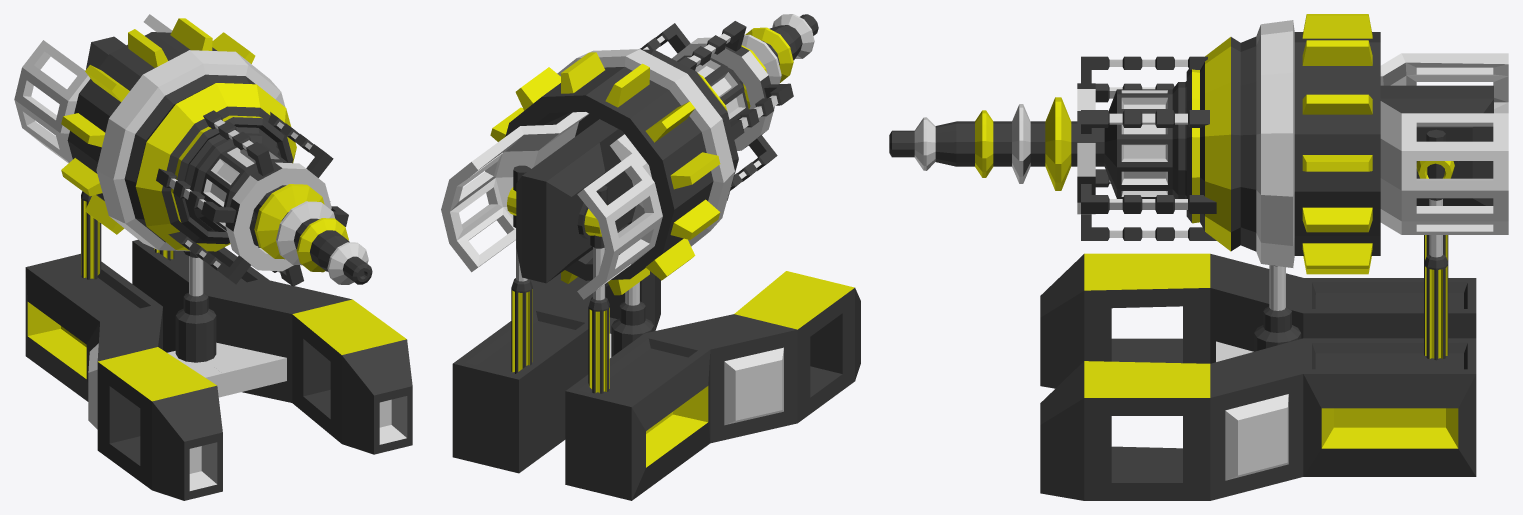
Rendered from tower7_2.fbx.
The picture shows the model from 3 angles, left to right: view 1: azimuth 30°, elevation 25°; view 2: azimuth 150°, elevation 25°; view 3: azimuth 270°, elevation 25°; orthographic projection. The views are drawn at different scales.
Visible parts, largest first — view 1: polySurface78; view 2: polySurface78; view 3: polySurface78.
Boxes of the visible parts, x1=… form: polySurface78: x1=14, y1=14, x2=412, y2=500; polySurface78: x1=441, y1=14, x2=860, y2=500; polySurface78: x1=889, y1=14, x2=1508, y2=500.
Size of the model in its own units: 0.4945 by 0.641 by 0.8975.
